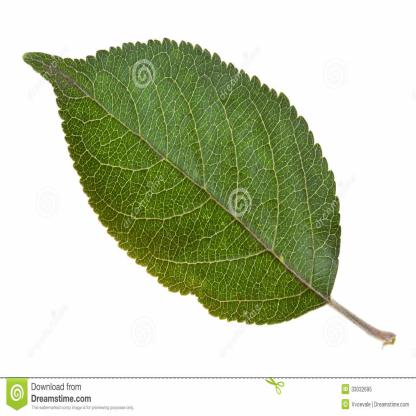apple leaf: (12, 31, 343, 331)
